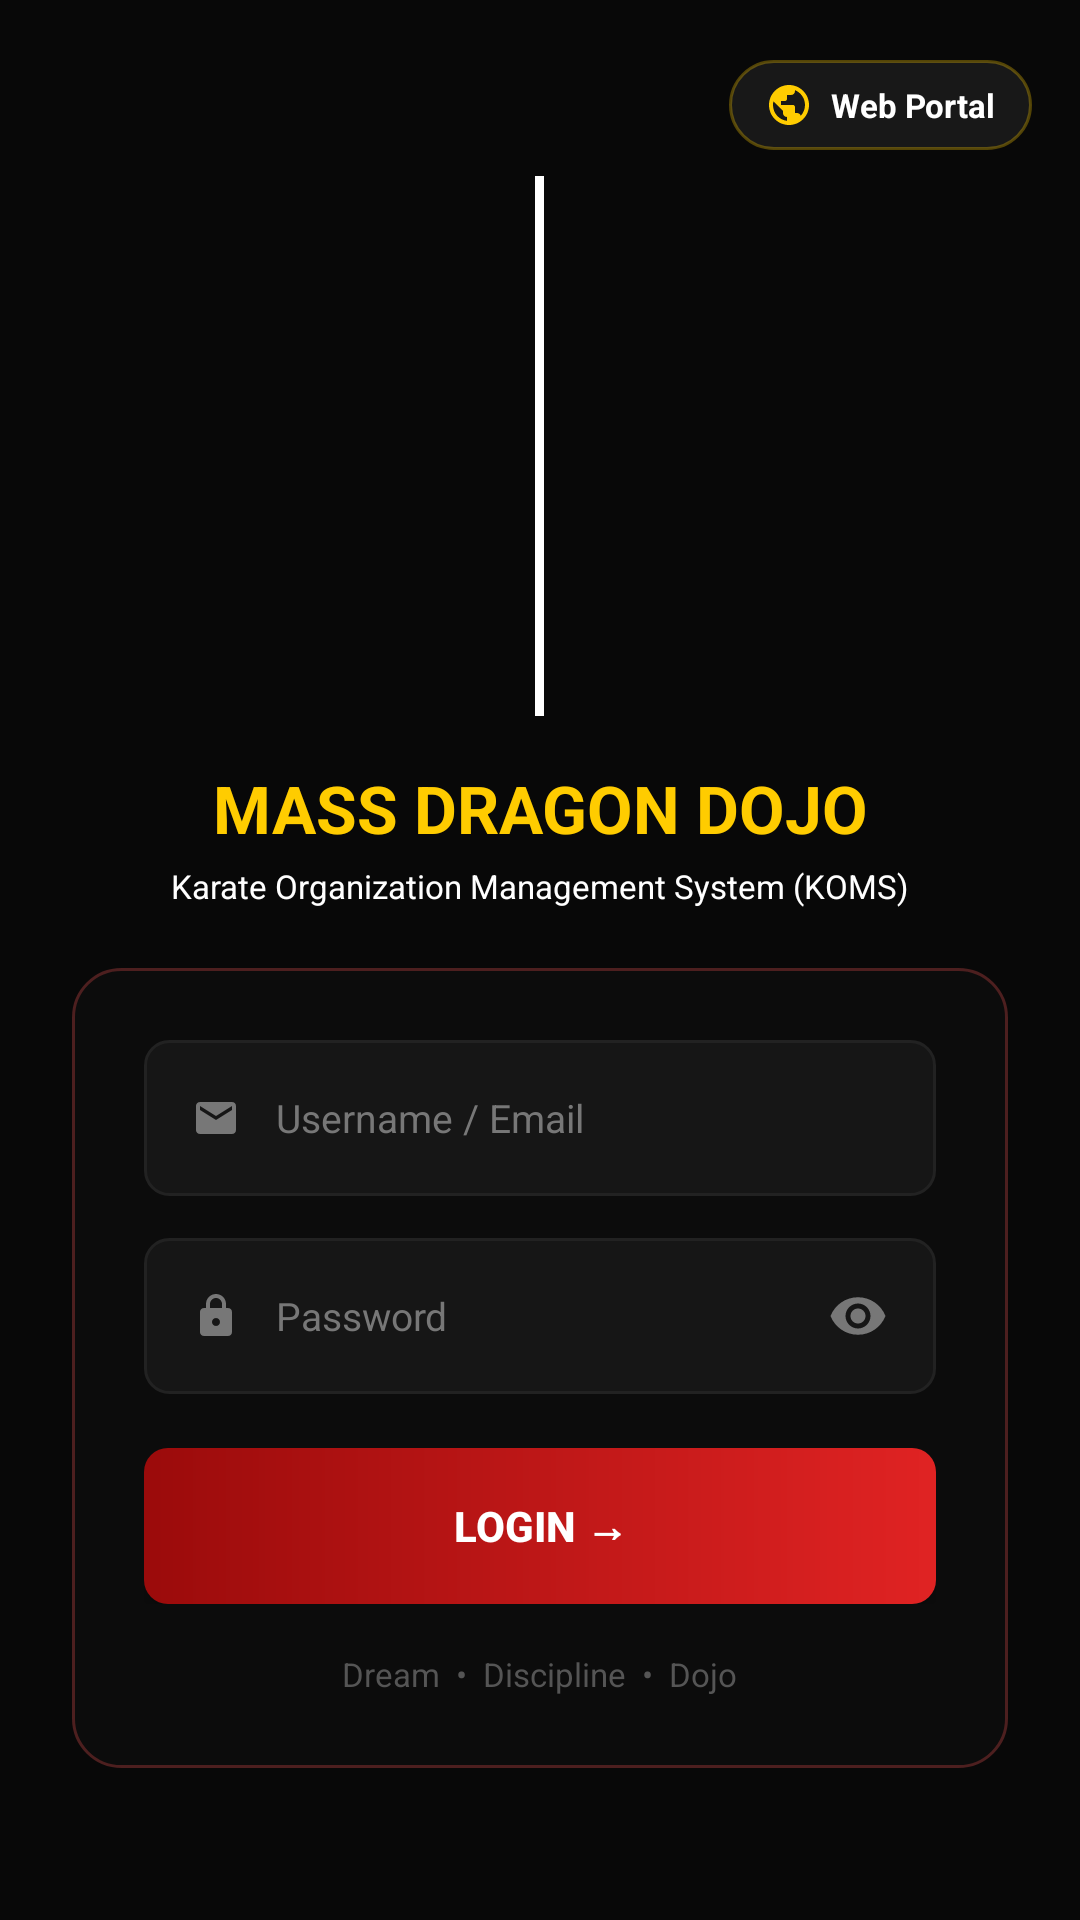

Icon click points for this 1080px x 1920px phone screenshot, format [x,y]:
eye: [858,1316]
lock: [216,1315]
